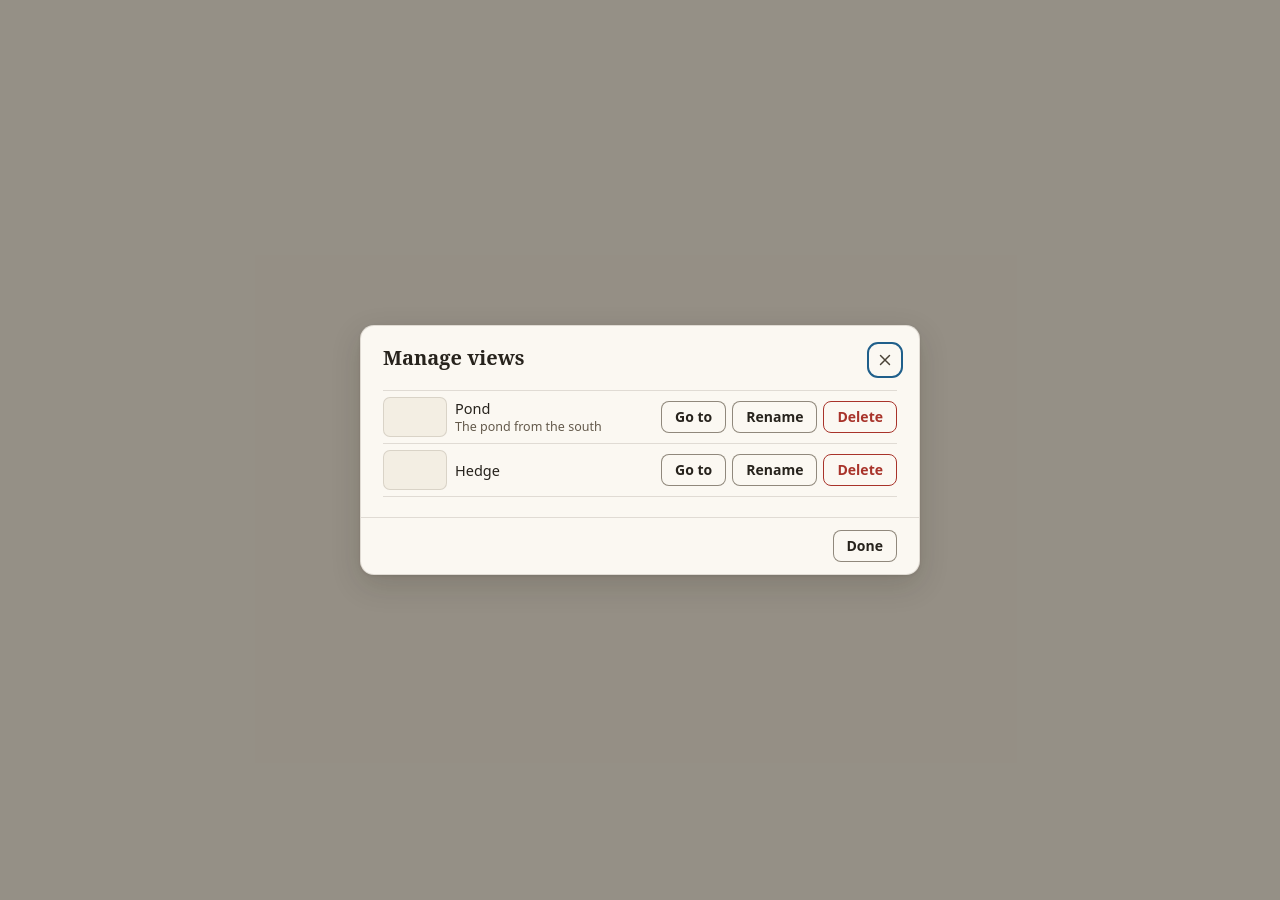
Test case: saved view dialogs › deletes an unused view with an Undo toast in the dialog
The image size is (1280, 900).
Click the button "Delete" in the row of "The pond from the south": {"x": 860, "y": 417} [824, 401, 897, 433]
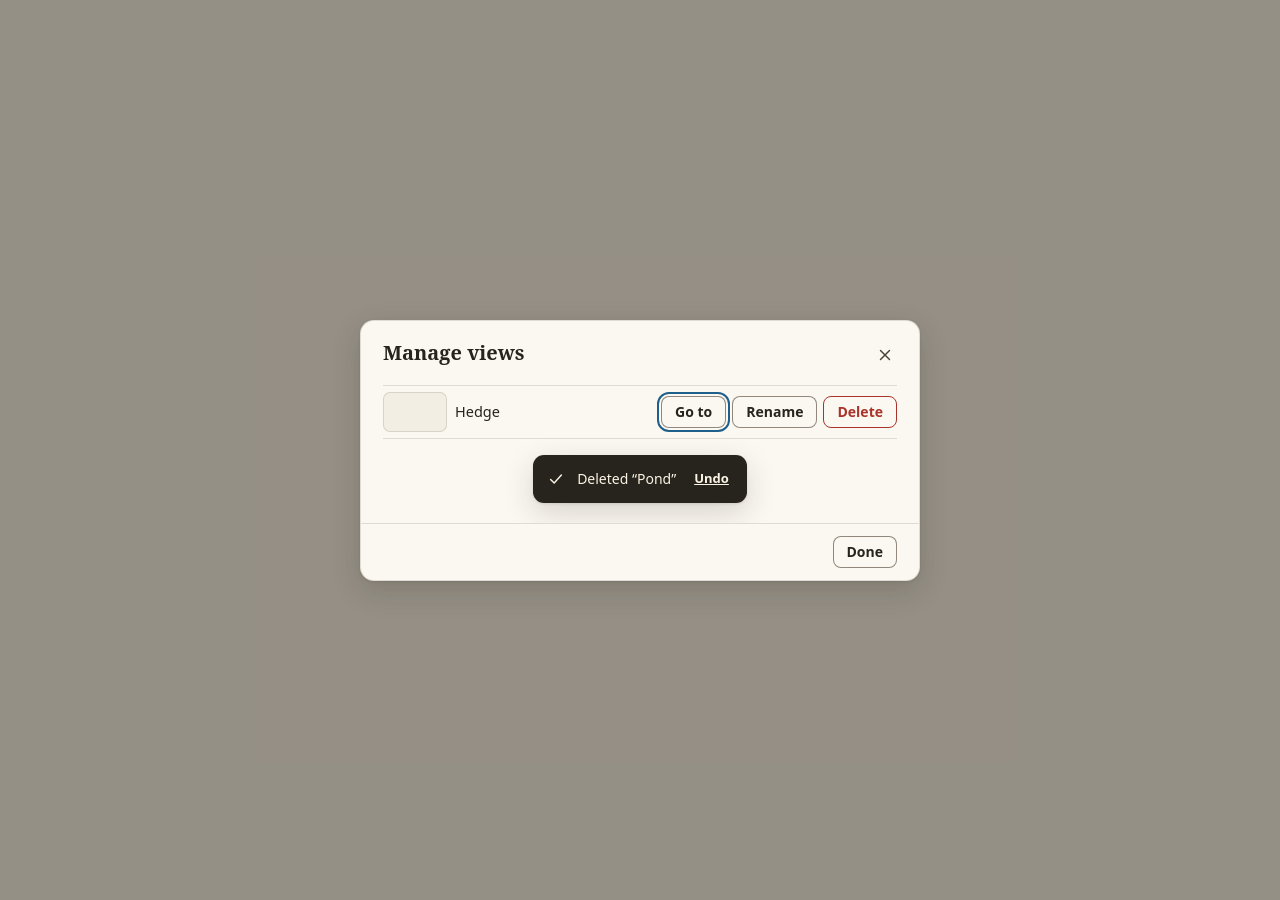
Check: the message "Deleted “Pond” Undo" is shown, box [533, 454, 747, 502]
Click the button "Undo": {"x": 712, "y": 478} [688, 464, 735, 492]
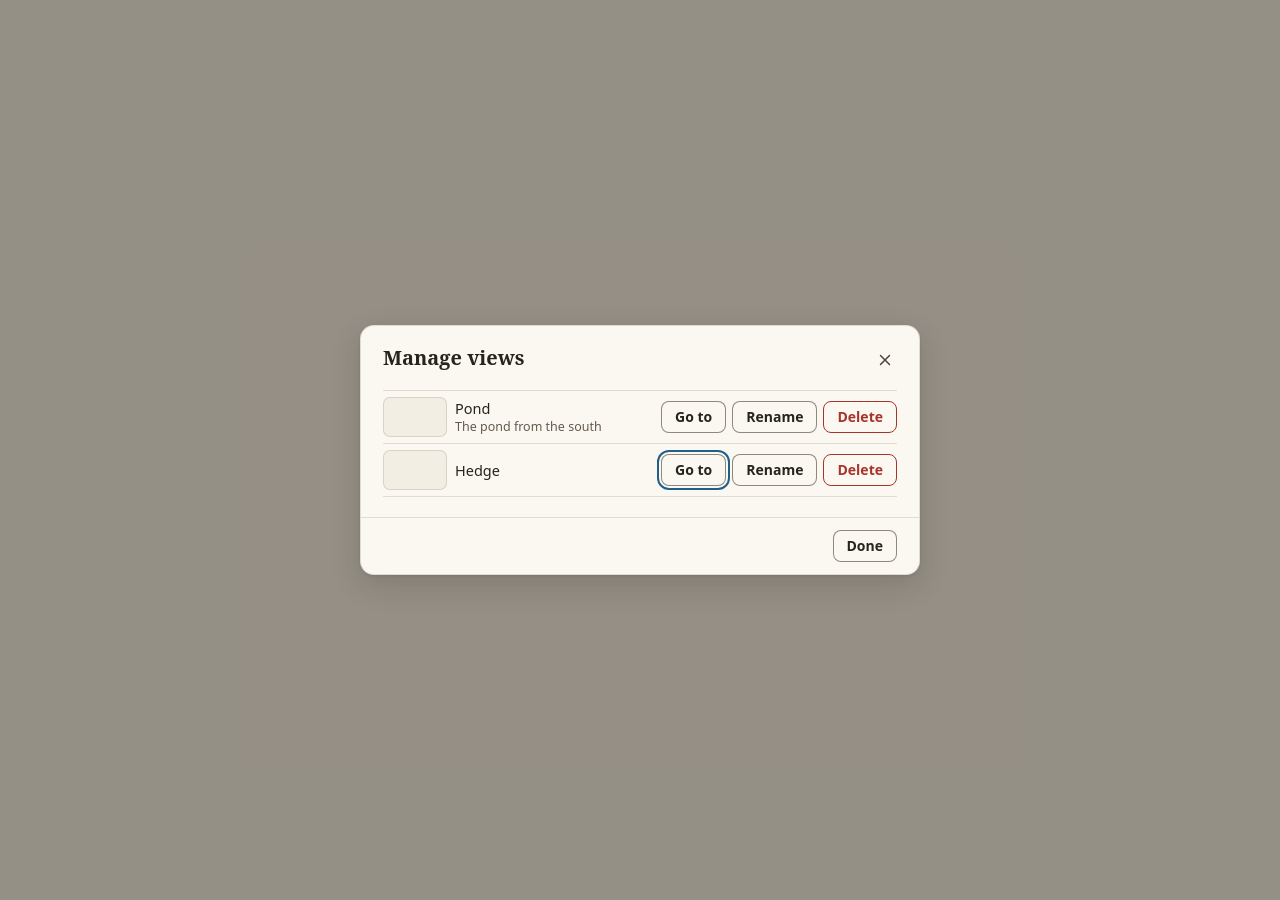
Check: the message "Deleted “Pond” Undo" is gone
